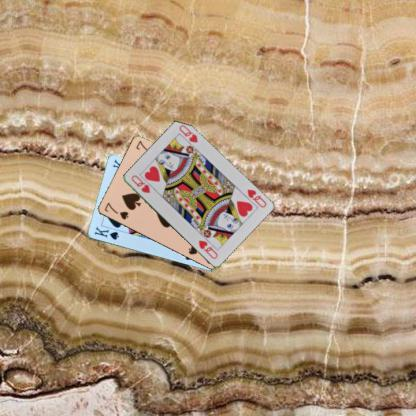7s: (102, 200, 129, 221)
Ks: (92, 224, 120, 241)
Qh: (128, 172, 152, 195), (245, 186, 268, 208)
